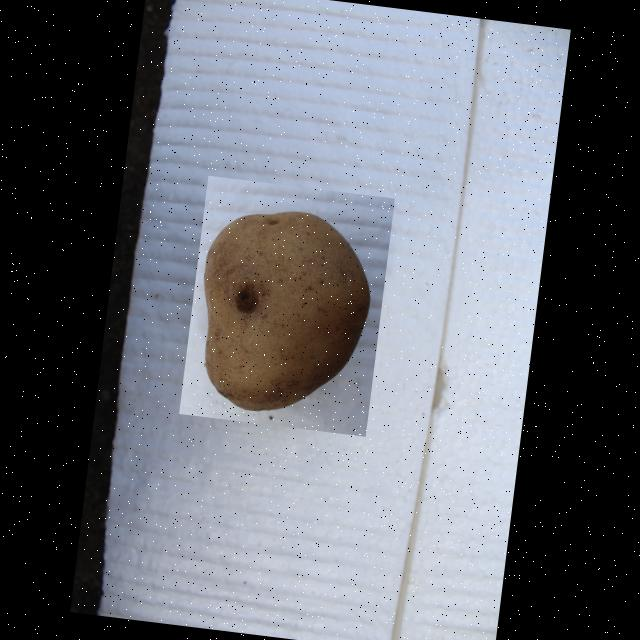Damaged potato: (178, 174, 394, 436)
